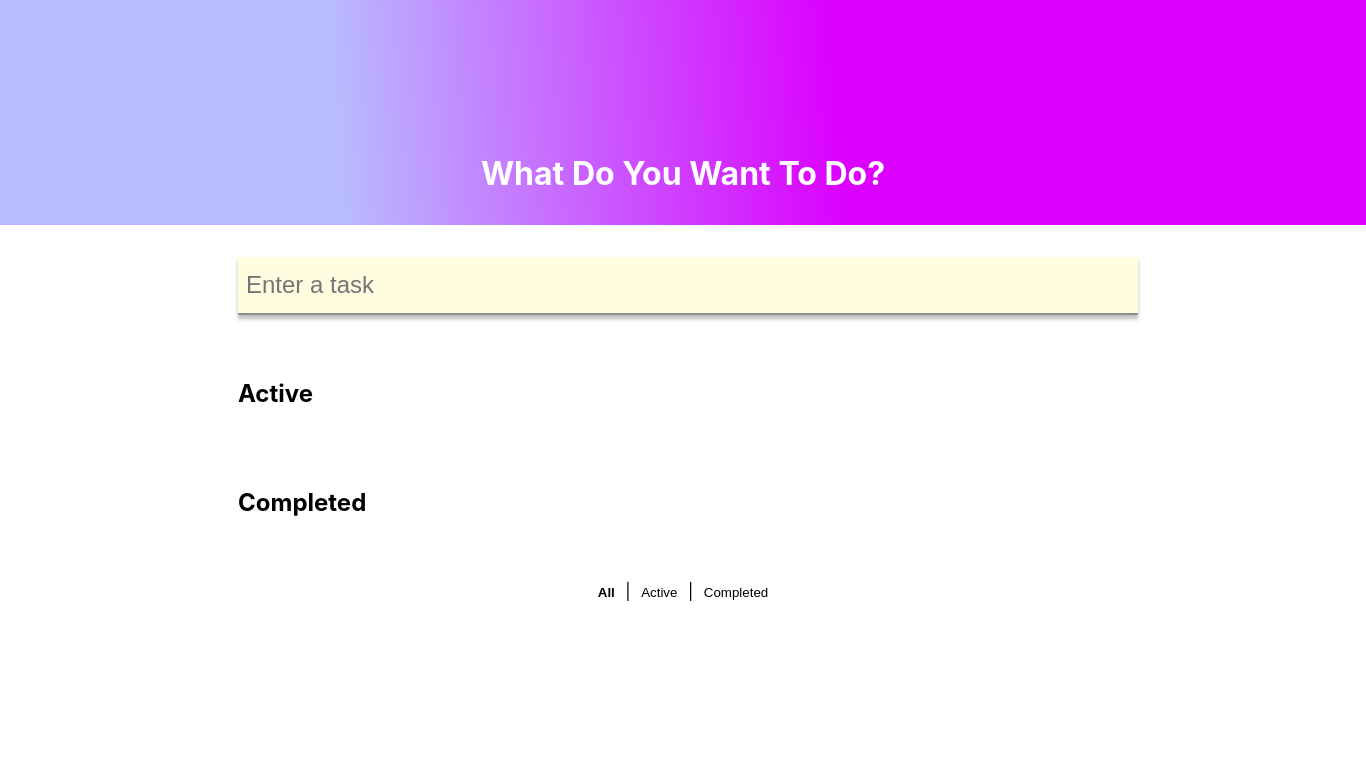
Scenario: creates a Task
Type "Test Task" into the field with placeholder "Enter a task" at (688, 286), box left=238, top=257, right=1138, bottom=315
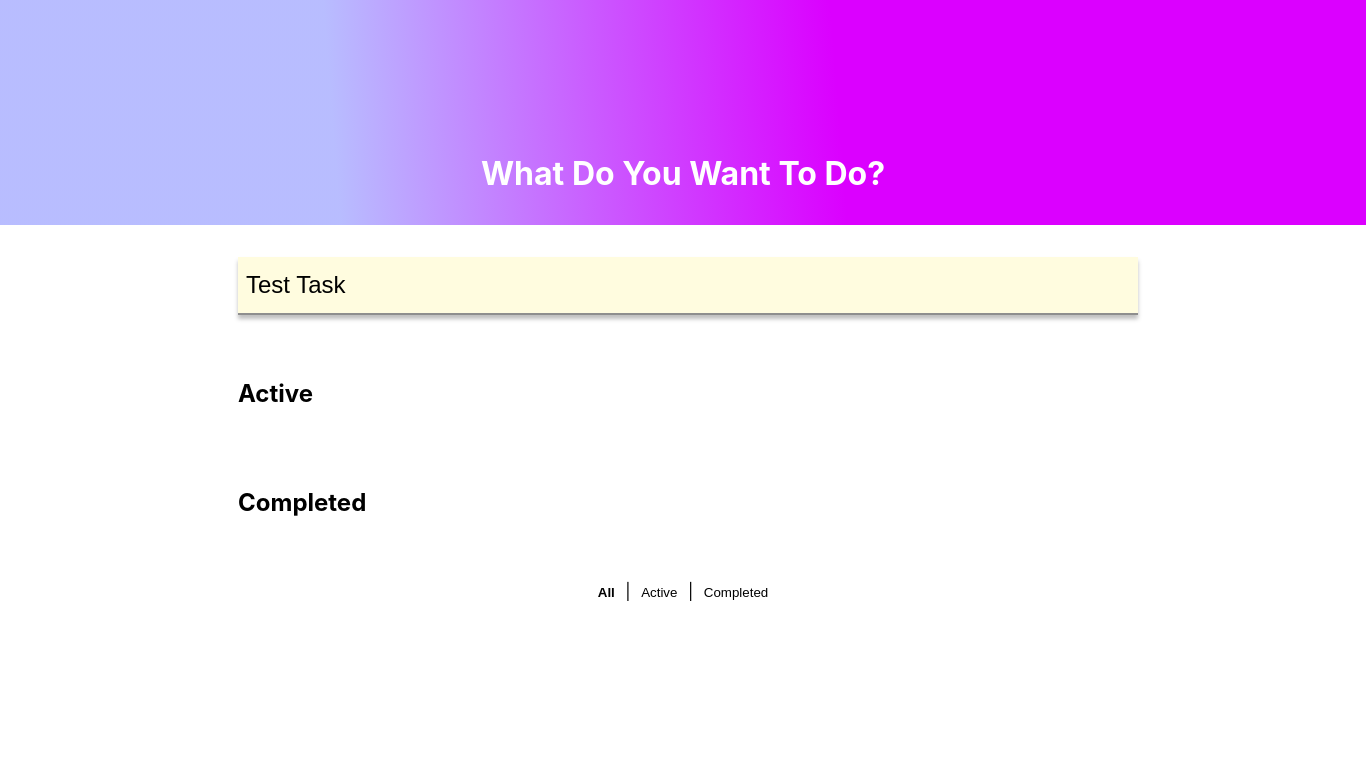
Submit the form from the field with placeholder "Enter a task", box left=238, top=257, right=1138, bottom=315
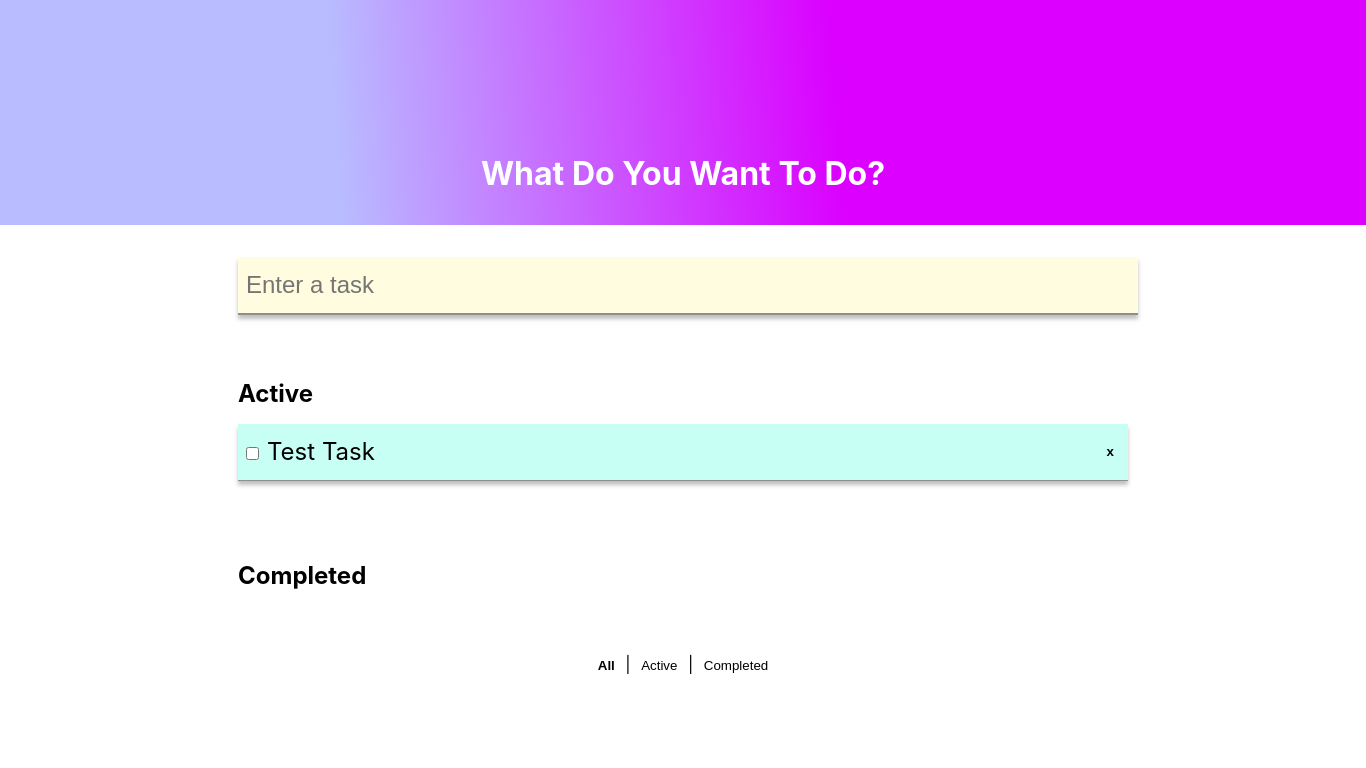
Expected: the text "Test Task" is shown, left=267, top=437, right=375, bottom=466
